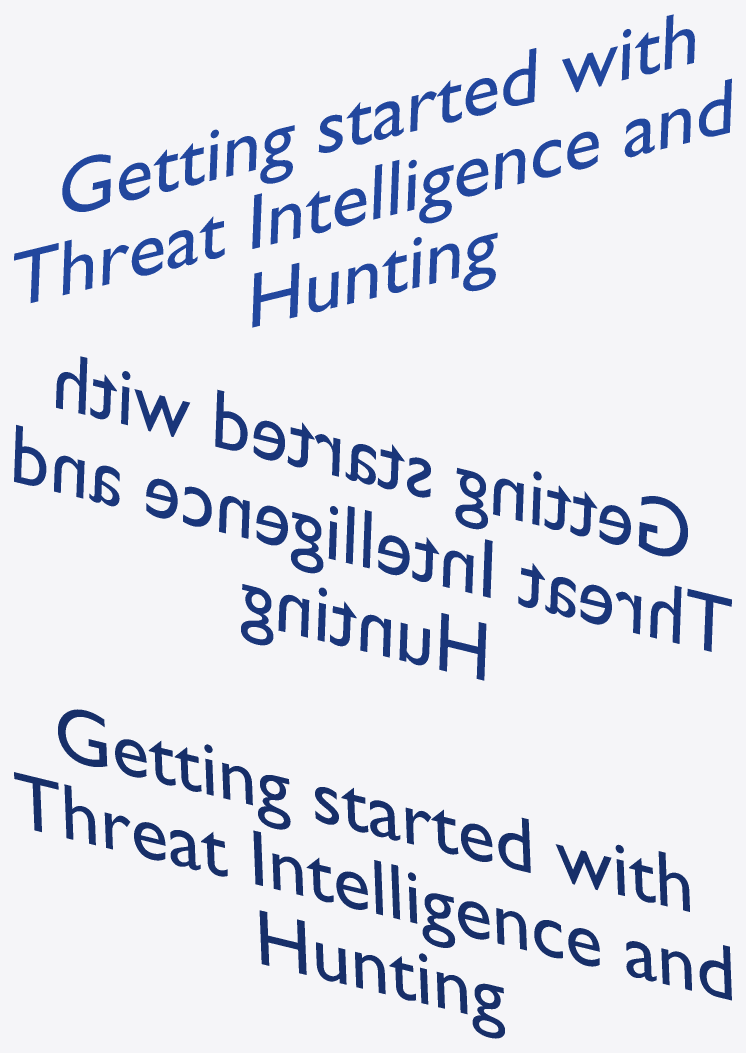
The model's file is GettingstartedWThreatIntelligence.glb.
3 renders of one model, top to bottom at view 1: azimuth 30°, elevation 25°; view 2: azimuth 150°, elevation 25°; view 3: azimuth 330°, elevation 25°, orthographic.
Visible parts, largest first — view 1: Text.001; view 2: Text.001; view 3: Text.001.
Part boxes in pixels (x1,y1,x2,y2): Text.001: (14,14,731,327); Text.001: (14,356,731,680); Text.001: (14,709,731,1038).
Size of the model in its own units: 9.2 by 2.91 by 0.1984.
